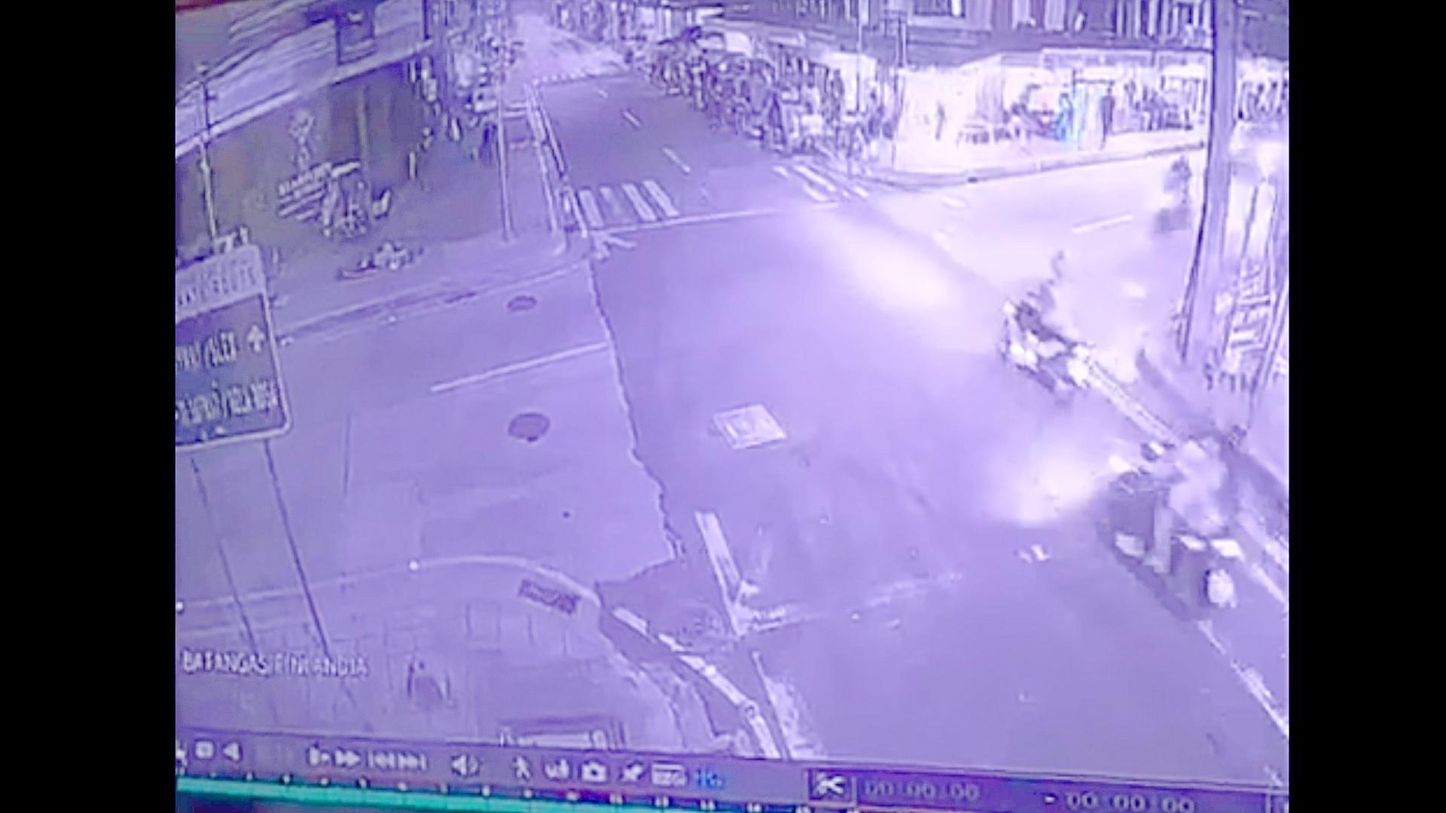Motor: (1100, 416, 1238, 614), (1004, 256, 1089, 400), (1156, 143, 1197, 233)
Not Accident: (1002, 255, 1241, 616)
